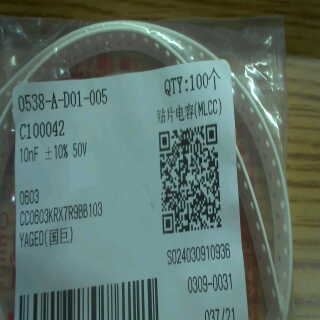10nF: (17, 144, 44, 166)
